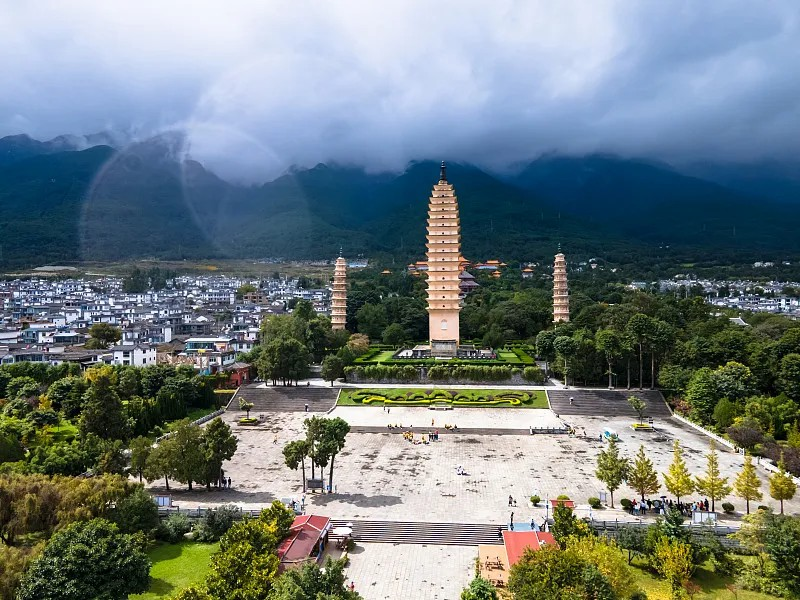ThreePagoda: (424, 161, 462, 345)
